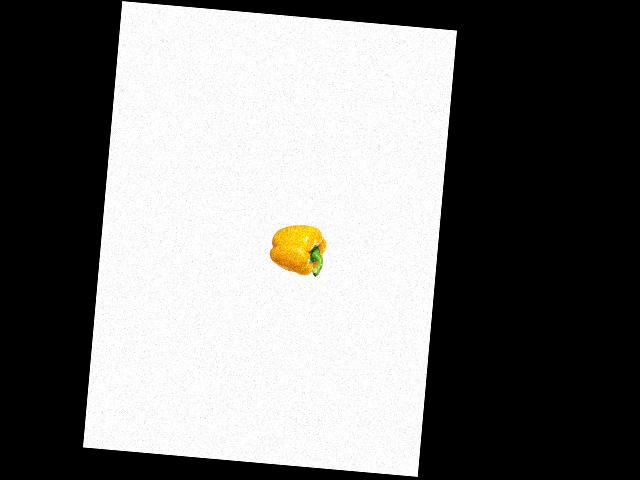bell_pepper: (265, 218, 333, 283)
